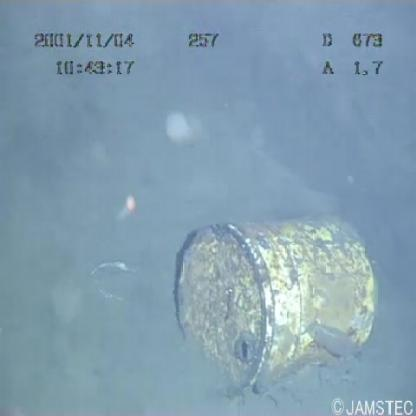Rác: (136, 204, 402, 411)
